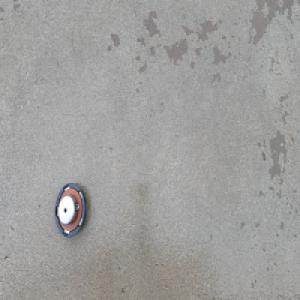FuelCap: (54, 180, 86, 241)
